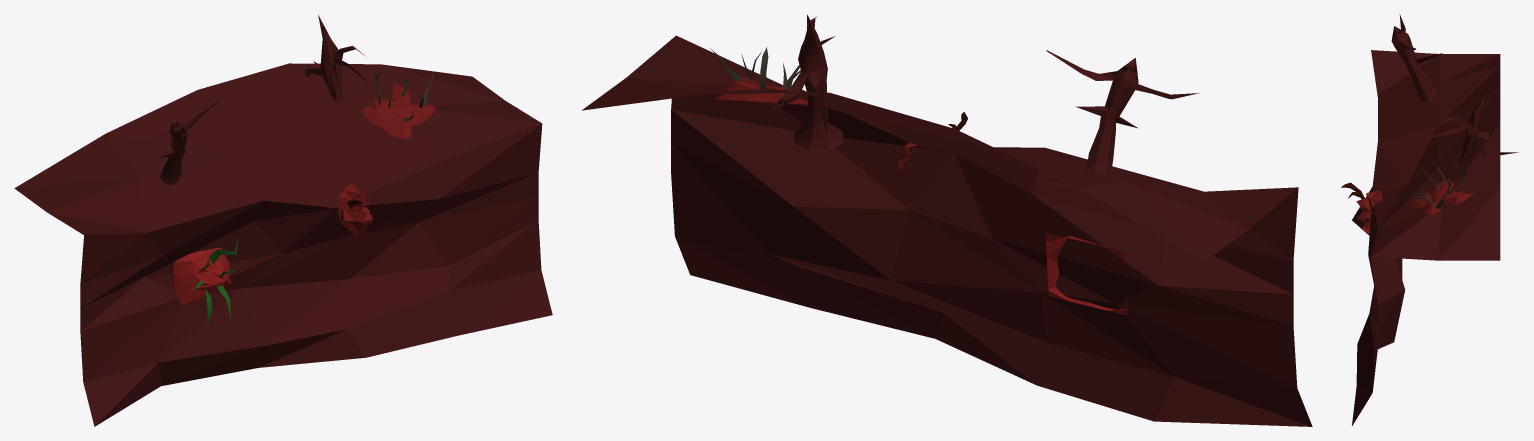
The model's file is Lava_wall_3.FBX.
3 renders of one model, left to right at view 1: azimuth 30°, elevation 25°; view 2: azimuth 150°, elevation 25°; view 3: azimuth 270°, elevation 25°, orthographic. The views are drawn at different scales.
Parts seen in each view (by area): view 1: Wall_003, LavaLevelDeadPlants1, LavaLevelWeeds004, LavaLevelTree023, LavaLevelTree019, Lava_rock_007; view 2: Wall_003, LavaLevelTree019, LavaLevelTree023, LavaLevelWeeds004, LavaLevelDeadPlants1; view 3: Wall_003, LavaLevelTree023, LavaLevelTree019, LavaLevelWeeds004, Lava_rock_007.
Boxes of the visible parts, bbox=[...] form: Wall_003: bbox=[14, 63, 552, 426]; LavaLevelDeadPlants1: bbox=[173, 238, 238, 325]; LavaLevelWeeds004: bbox=[361, 69, 435, 138]; LavaLevelTree023: bbox=[126, 99, 221, 185]; LavaLevelTree019: bbox=[304, 15, 368, 102]; Lava_rock_007: bbox=[336, 184, 373, 235]; Wall_003: bbox=[582, 35, 1312, 426]; LavaLevelTree019: bbox=[770, 14, 843, 150]; LavaLevelTree023: bbox=[1044, 50, 1199, 193]; LavaLevelWeeds004: bbox=[710, 47, 807, 105]; LavaLevelDeadPlants1: bbox=[1045, 232, 1127, 315]; Wall_003: bbox=[1352, 50, 1500, 425]; LavaLevelTree023: bbox=[1391, 14, 1442, 101]; LavaLevelTree019: bbox=[1423, 91, 1518, 165]; LavaLevelWeeds004: bbox=[1409, 160, 1473, 214]; Lava_rock_007: bbox=[1356, 190, 1382, 235].
Bounding box in the file's own units: 4000 × 2384 × 1461.
